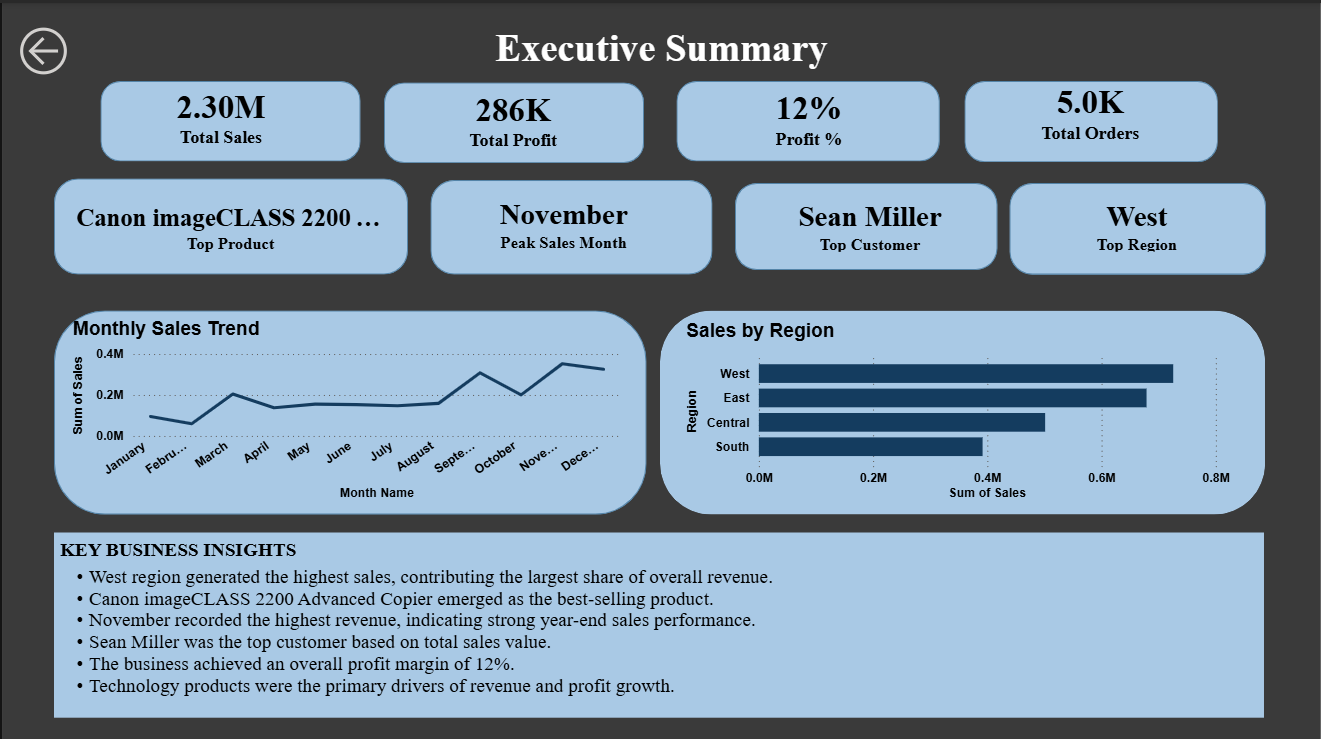

The dashboard page shown, as its layout file describes it:
{"tool":"powerbi","page":{"name":"Executive Summary","canvas":[1280,720],"ordinal":2},"visuals":[{"type":"textbox","box":[10.6,18.2,1268.9,63.6],"z":0},{"type":"shape","box":[95.1,76.2,252.8,78.2],"z":0,"group":"g1"},{"type":"shape","box":[49.9,170.9,344.1,93.3],"z":0,"group":"g3"},{"type":"shape","box":[48.9,298.4,575.8,198.4],"z":0,"group":"g2"},{"type":"group","id":"g1","title":"Group 1","box":[95.1,75.8,1085.5,79.9],"z":1000},{"type":"shape","box":[370.6,77.5,252.8,78.2],"z":1000,"group":"g1"},{"type":"shape","box":[416,172.5,274.1,91.8],"z":1000,"group":"g3"},{"type":"shape","box":[638.5,298.4,588.2,198.4],"z":1000,"group":"g2"},{"type":"cardVisual","fields":{"Data":["Sample - Superstore.Total Sales"]},"box":[110.2,66.1,202.5,93.7],"z":2000},{"type":"shape","box":[655.3,76.2,255.9,78.2],"z":2000,"group":"g1"},{"type":"shape","box":[711.9,175.4,255.1,84.6],"z":2000,"group":"g3"},{"type":"cardVisual","fields":{"Data":["Sample - Superstore.Total Profit"]},"box":[388.5,66.1,216.3,99.2],"z":3000},{"type":"shape","box":[934.3,75.8,246.3,79],"z":3000,"group":"g1"},{"type":"shape","box":[978.3,174.6,249.2,89.1],"z":3000,"group":"g3"},{"type":"cardVisual","fields":{"Data":["Sample - Superstore.Profit %"]},"box":[669.5,66.1,228.7,96.4],"z":4000},{"type":"cardVisual","fields":{"Data":["Sample - Superstore.Total Orders"]},"box":[946.4,59.2,221.8,96.4],"z":5000},{"type":"group","id":"g2","title":"Group 2","box":[48.9,298.4,1176.3,198.9],"z":6000},{"type":"lineChart","title":"Monthly Sales Trend","fields":{"Y":["Sum(Sample - Superstore.Sales)"],"Category":["DateTable.Month Name"]},"box":[63.2,306.3,541.6,181.6],"z":7000},{"type":"clusteredBarChart","title":"Sales by Region","fields":{"Category":["Sample - Superstore.Region"],"Y":["Sum(Sample - Superstore.Sales)"]},"box":[658.4,307.9,538.4,180],"z":8000},{"type":"textbox","title":"KEY BUSINESS INSIGHTS","box":[48.9,514.7,1176.3,180],"z":9000},{"type":"group","id":"g3","title":"Group 3","box":[49.9,170.9,1177.6,93.4],"z":10000},{"type":"cardVisual","fields":{"Data":["DateTable.Best Product Shorter"]},"box":[42.3,172,358.6,94.8],"z":11000},{"type":"cardVisual","fields":{"Data":["DateTable.Best Month"]},"box":[451.9,167.7,186.6,97.7],"z":12000},{"type":"cardVisual","fields":{"Data":["DateTable.Best Region"]},"box":[1016.1,177.9,172,81.6],"z":13000},{"type":"cardVisual","fields":{"Data":["DateTable.Top Customer"]},"box":[739.1,177.9,207,81.6],"z":14000},{"type":"actionButton","box":[10.2,17.5,100.6,58.3],"z":14001}]}

Visuals, with their boxes in screenshot pixels (x1, y1, x2, y2), scaled from the page's 1280x720 canvas onto the 1321x739 screenshot:
textbox: [11,19,1320,84]
shape: [98,78,359,158]
shape: [51,175,407,271]
shape: [50,306,645,510]
"Group 1" group: [98,78,1218,160]
shape: [382,80,643,160]
shape: [429,177,712,271]
shape: [659,306,1266,510]
cardVisual - Sample - Superstore.Total Sales: [114,68,323,164]
shape: [676,78,940,158]
shape: [735,180,998,267]
cardVisual - Sample - Superstore.Total Profit: [401,68,624,170]
shape: [964,78,1218,159]
shape: [1010,179,1267,271]
cardVisual - Sample - Superstore.Profit %: [691,68,927,167]
cardVisual - Sample - Superstore.Total Orders: [977,61,1206,160]
"Group 2" group: [50,306,1264,510]
"Monthly Sales Trend" lineChart: [65,314,624,501]
"Sales by Region" clusteredBarChart: [679,316,1235,501]
"KEY BUSINESS INSIGHTS" textbox: [50,528,1264,713]
"Group 3" group: [51,175,1267,271]
cardVisual - DateTable.Best Product Shorter: [44,177,414,274]
cardVisual - DateTable.Best Month: [466,172,659,272]
cardVisual - DateTable.Best Region: [1049,183,1226,266]
cardVisual - DateTable.Top Customer: [763,183,976,266]
actionButton: [11,18,114,78]
